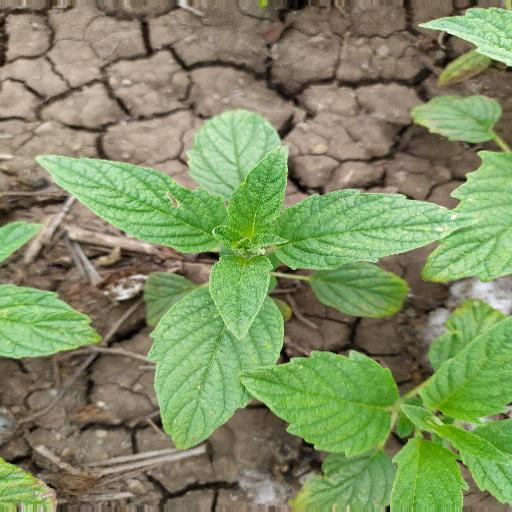crop: (46, 86, 431, 443), (247, 291, 512, 500)
